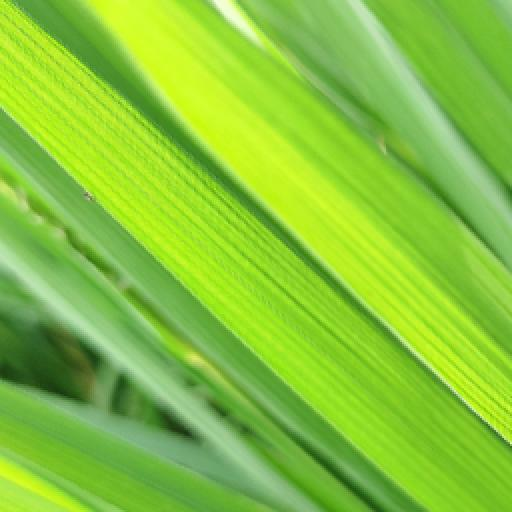Healthy Leaf: (8, 2, 508, 508)
